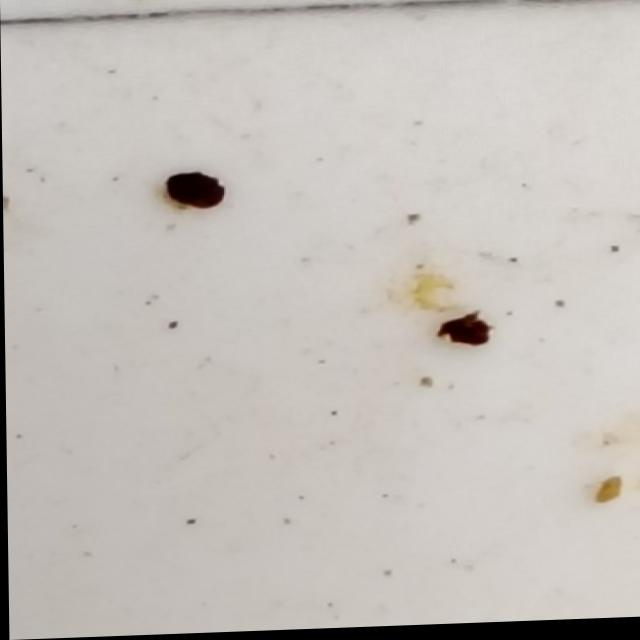varroa: (161, 169, 228, 215)
